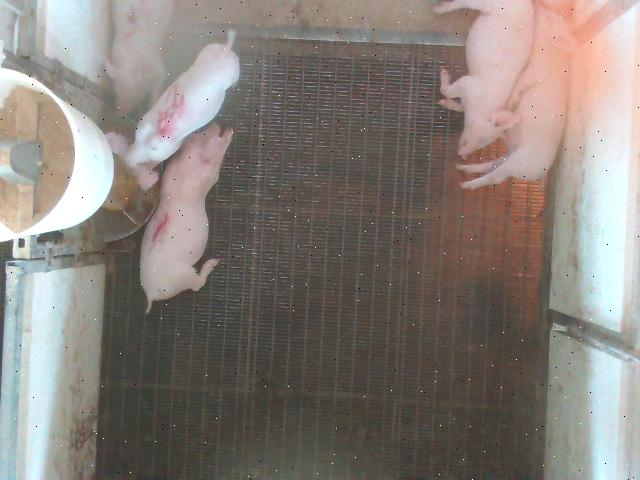pig-1: (140, 124, 232, 312)
pig-3: (106, 1, 174, 116)
pig-5: (106, 31, 239, 190)
